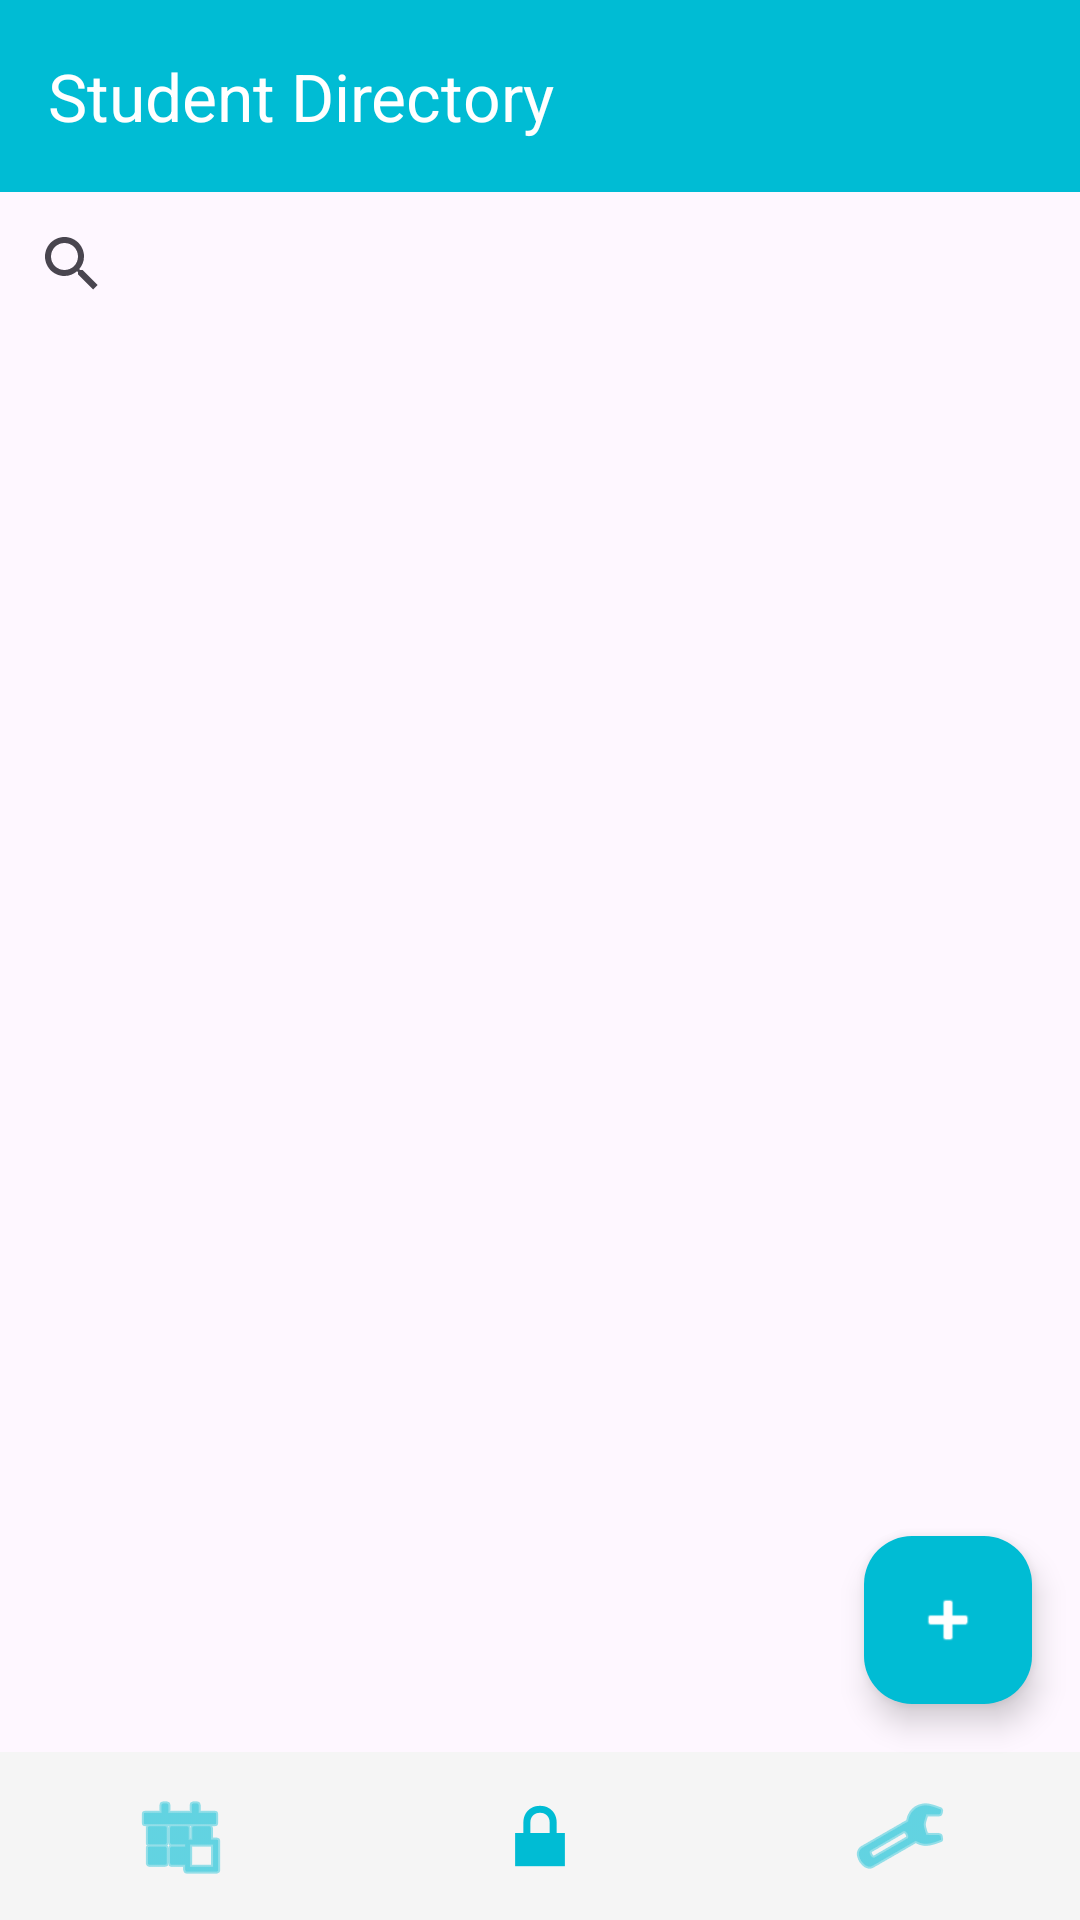

Icon bounding boxes for this 1080px×1920px phone screenshot, format BBox(x1, y1, x2, y2):
Add Student: BBox(864, 1536, 1032, 1704)
Settings: BBox(857, 1803, 943, 1869)
